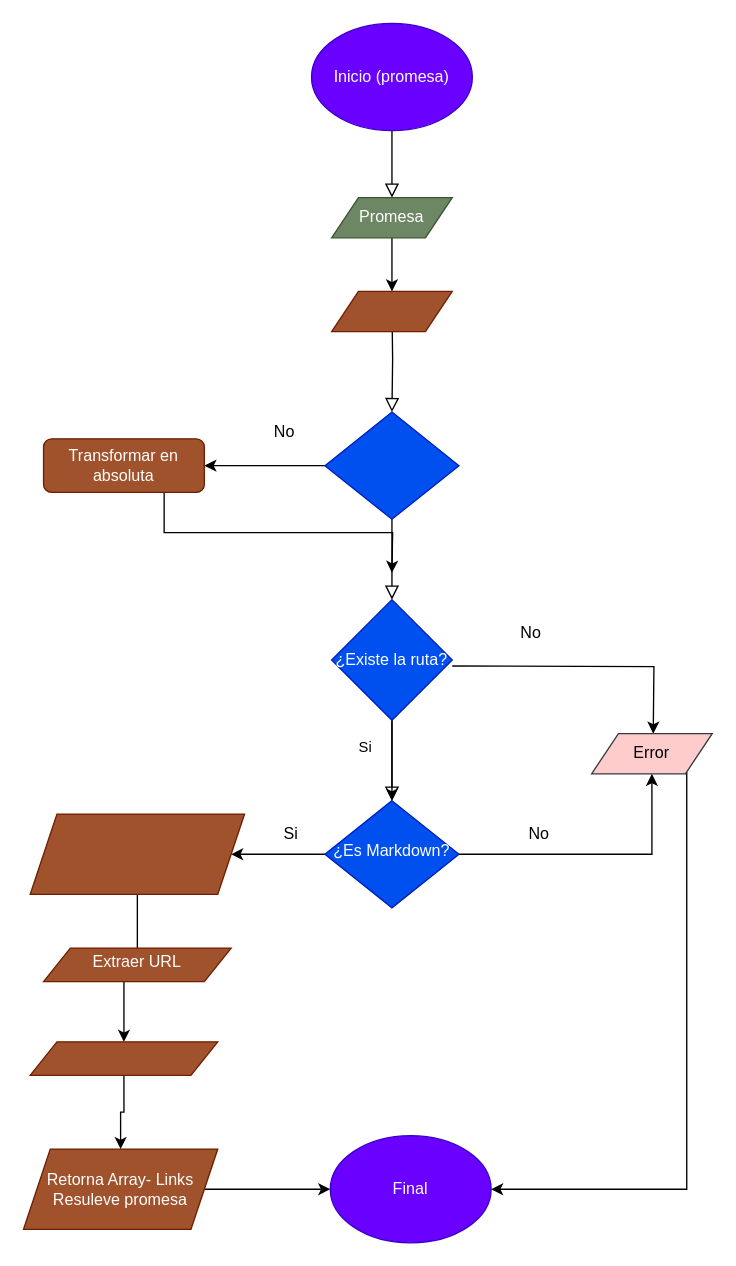
Some shapes in this 736 by 1266 pixel diagram are drawn without their labels. The centre of each missing label's shape, as x and y in pixels:
"Arreglo" belongs at point 123,1058.
"Leer/ verificar el archivo" belongs at point 137,853.
"Ruta" belongs at point 391,311.
"¿Es absoluta?" belongs at point 391,465.
